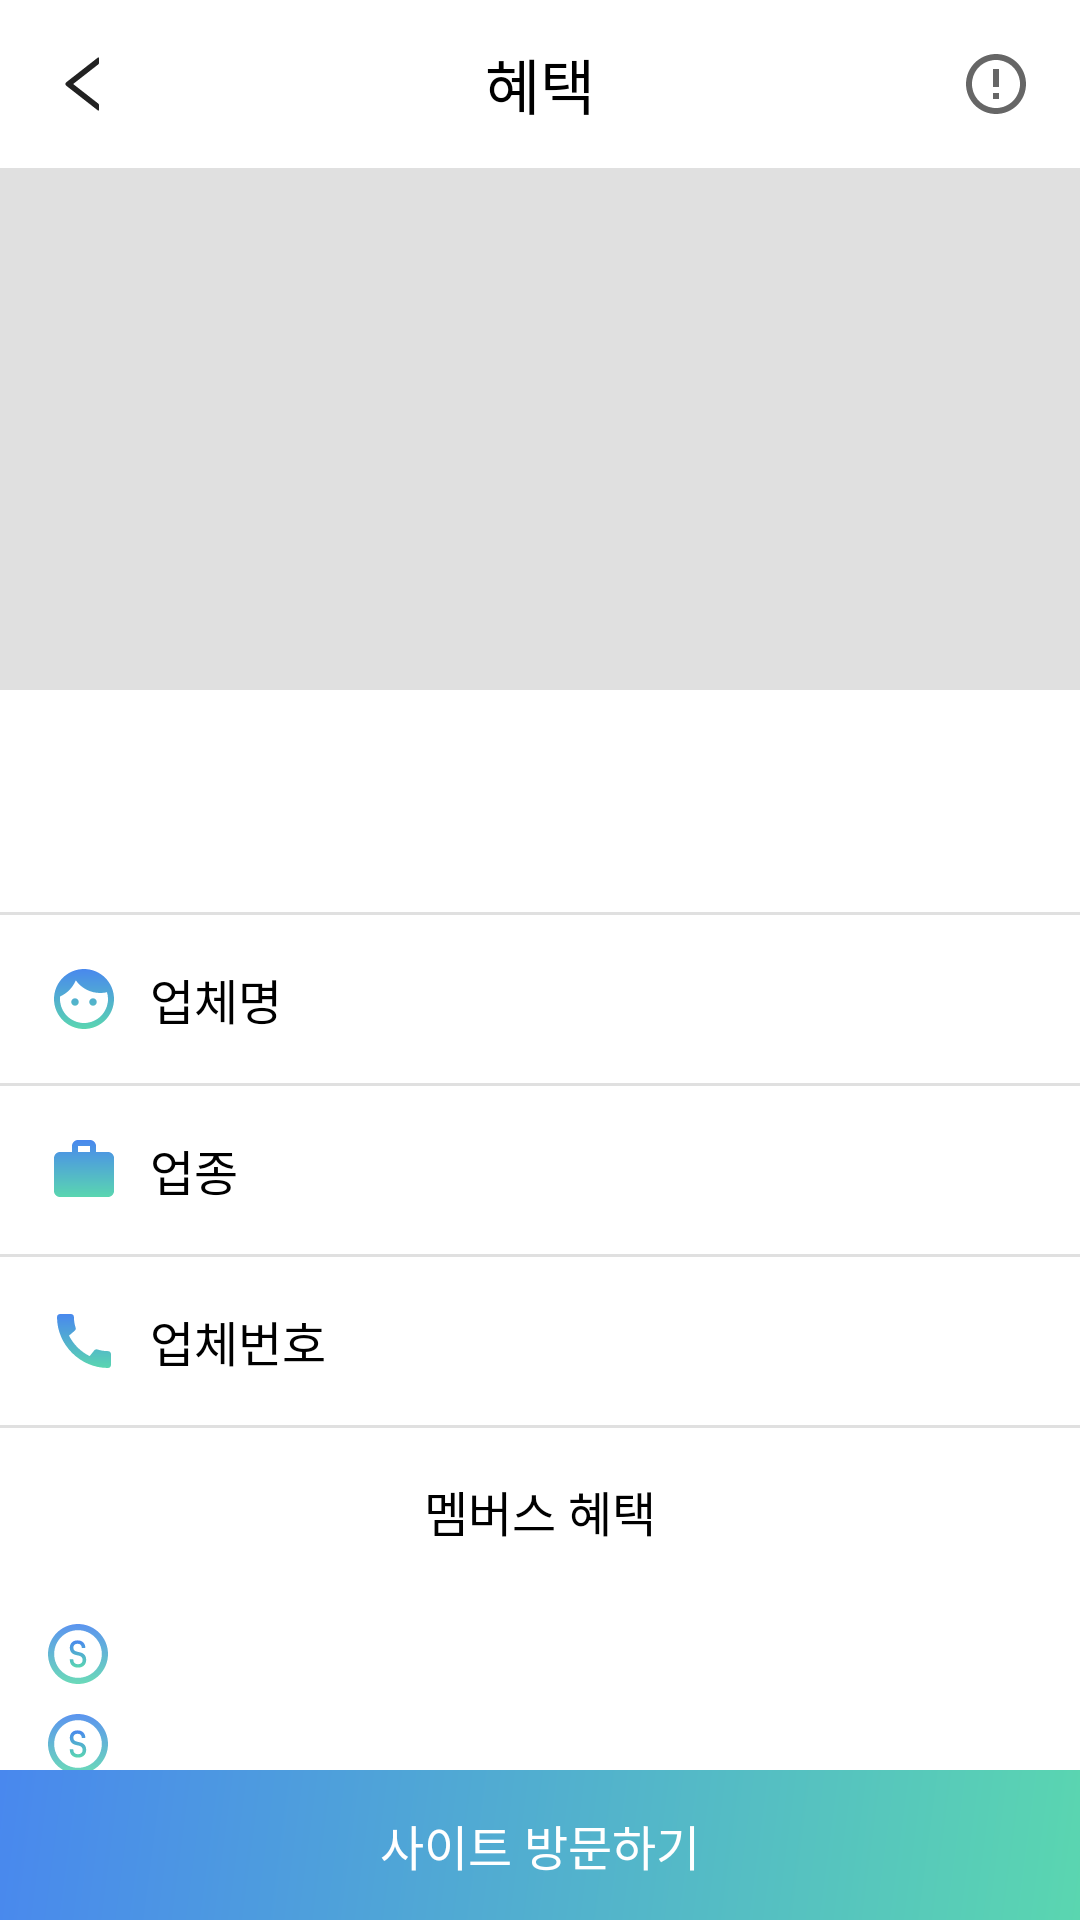

Screen size 1080*1920. Icon name, then its box in pixels as [x1=x1, y1=y1, x2=x2, y2=y2]:
go back: [x1=65, y1=57, x2=99, y2=111]
num: [x1=57, y1=1314, x2=111, y2=1368]
sector: [x1=54, y1=1140, x2=114, y2=1197]
